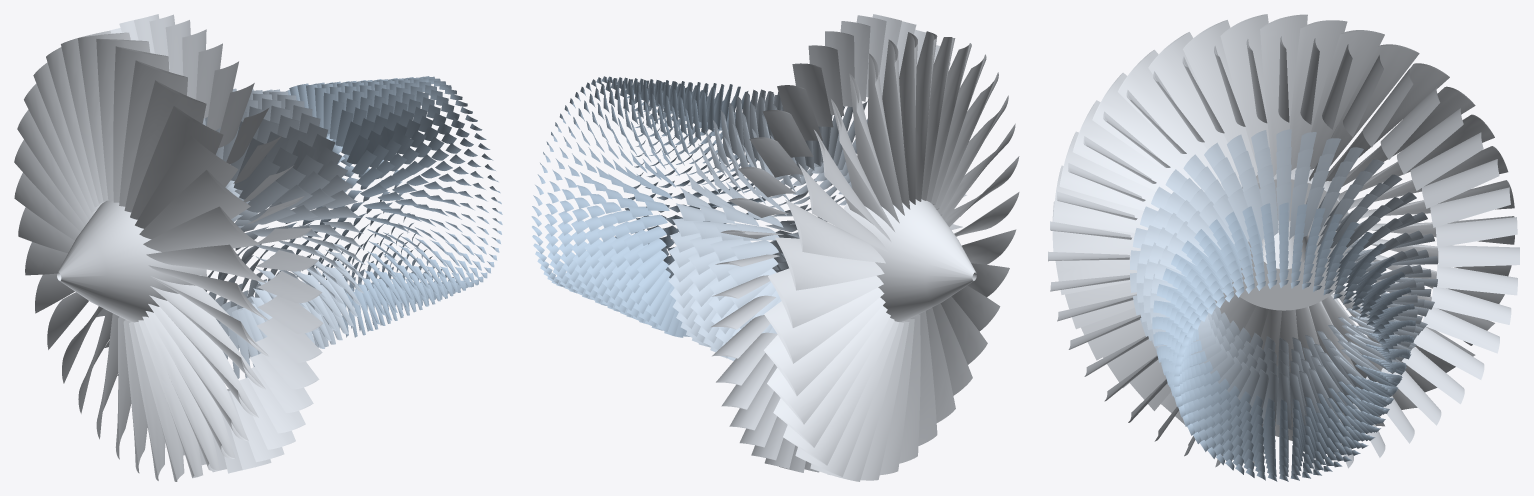
Rendered from L2_turbofan_core.glb.
3 renders of one model, left to right at view 1: azimuth 30°, elevation 25°; view 2: azimuth 150°, elevation 25°; view 3: azimuth 270°, elevation 25°, orthographic.
Parts seen in each view (by area): view 1: n1_wide_chord_titanium_fan_36blades, hpc_9stage_high_pressure_compressor, ogv_outlet_guide_vane_cascade, lpc_4stage_low_pressure_booster; view 2: n1_wide_chord_titanium_fan_36blades, hpc_9stage_high_pressure_compressor, ogv_outlet_guide_vane_cascade, lpc_4stage_low_pressure_booster; view 3: n1_wide_chord_titanium_fan_36blades, lpc_4stage_low_pressure_booster, hpc_9stage_high_pressure_compressor, ogv_outlet_guide_vane_cascade.
Boxes of the visible parts, bbox=[...] form: n1_wide_chord_titanium_fan_36blades: bbox=[14, 30, 269, 481]; hpc_9stage_high_pressure_compressor: bbox=[272, 76, 502, 337]; ogv_outlet_guide_vane_cascade: bbox=[96, 14, 323, 473]; lpc_4stage_low_pressure_booster: bbox=[202, 88, 365, 378]; n1_wide_chord_titanium_fan_36blades: bbox=[764, 31, 1019, 481]; hpc_9stage_high_pressure_compressor: bbox=[531, 76, 765, 337]; ogv_outlet_guide_vane_cascade: bbox=[711, 14, 966, 472]; lpc_4stage_low_pressure_booster: bbox=[668, 89, 867, 360]; n1_wide_chord_titanium_fan_36blades: bbox=[1052, 14, 1514, 444]; lpc_4stage_low_pressure_booster: bbox=[1130, 129, 1437, 429]; hpc_9stage_high_pressure_compressor: bbox=[1152, 202, 1415, 481]; ogv_outlet_guide_vane_cascade: bbox=[1048, 36, 1519, 470].
Bounding box in the file's own units: 2.02 × 2.08 × 2.08.
